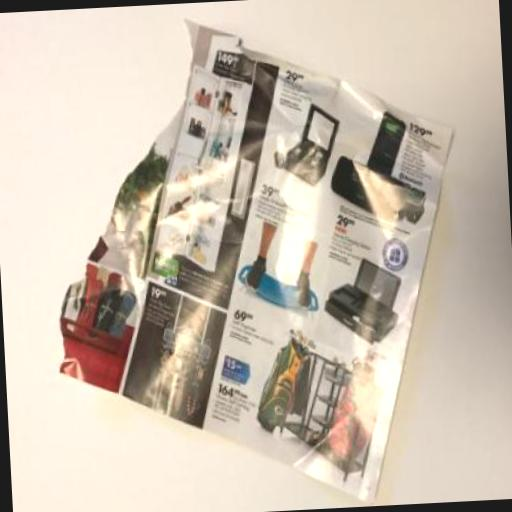paper: (37, 3, 470, 512)
